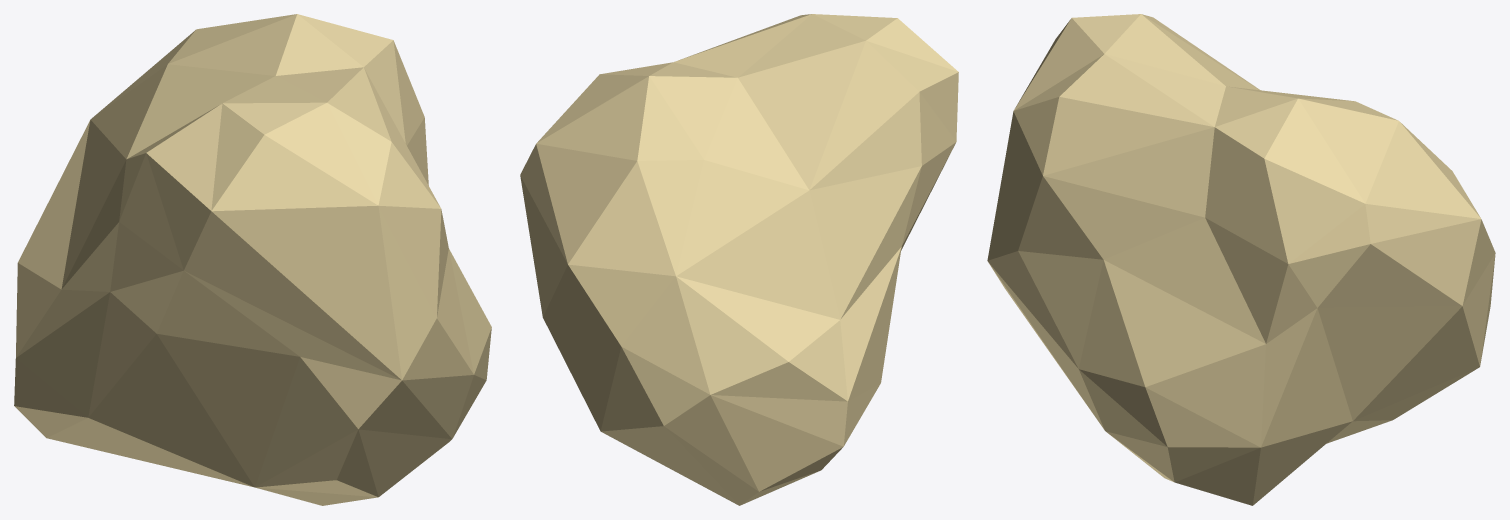
Rendered from Rock (22).fbx.
3 views of the same model, side by side, from view 1: azimuth 30°, elevation 25°; view 2: azimuth 150°, elevation 25°; view 3: azimuth 270°, elevation 25° (orthographic). The views are drawn at different scales.
Visible parts, largest first — view 1: Asteroid21; view 2: Asteroid21; view 3: Asteroid21.
Boxes of the visible parts, left/top/right/bottom form: Asteroid21: left=14, top=14, right=491, bottom=505; Asteroid21: left=520, top=14, right=958, bottom=505; Asteroid21: left=987, top=14, right=1495, bottom=505.
Size of the model in its own units: 128 by 148 by 165.
